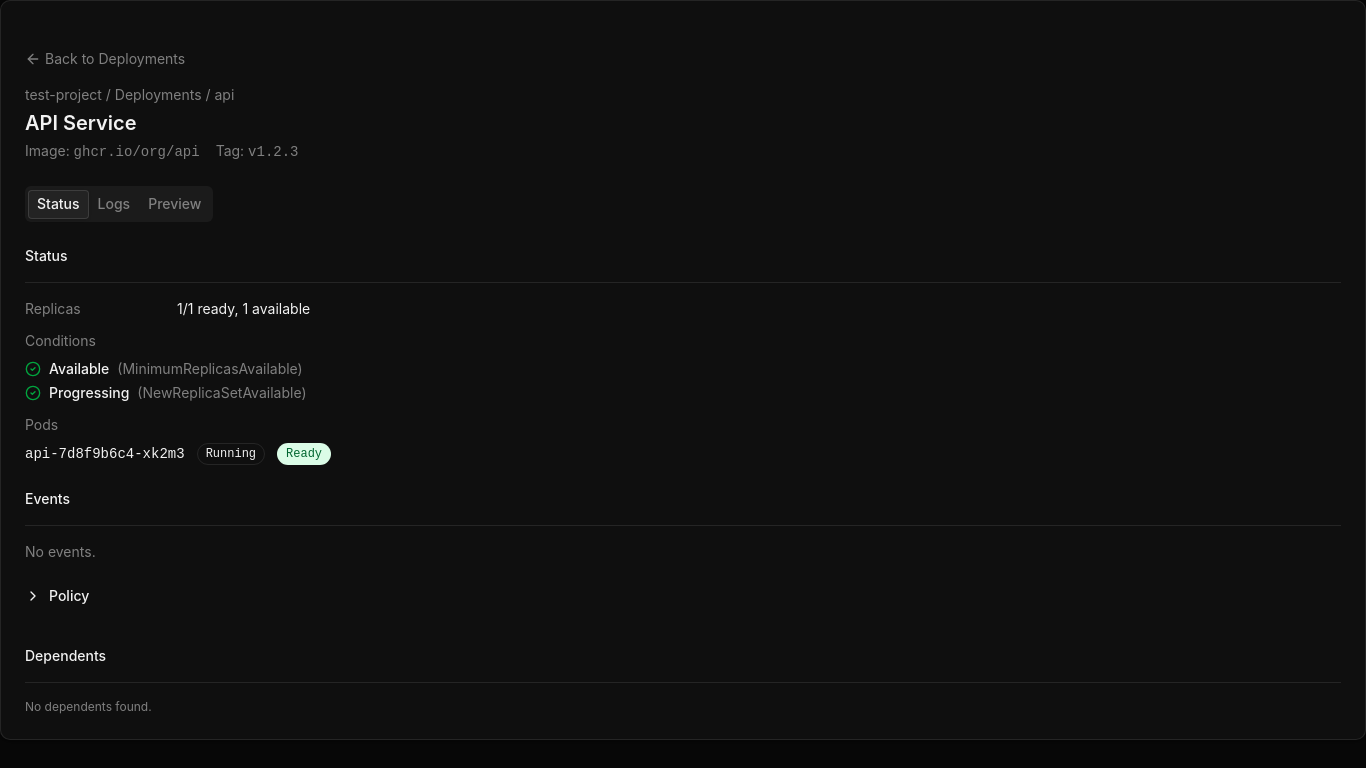
it: DeploymentDetailPage › Preview tab › renders platform resources YAML when preview data is available
Click the tab "Preview": (175, 204) top-left (139, 190), bottom-right (210, 218)
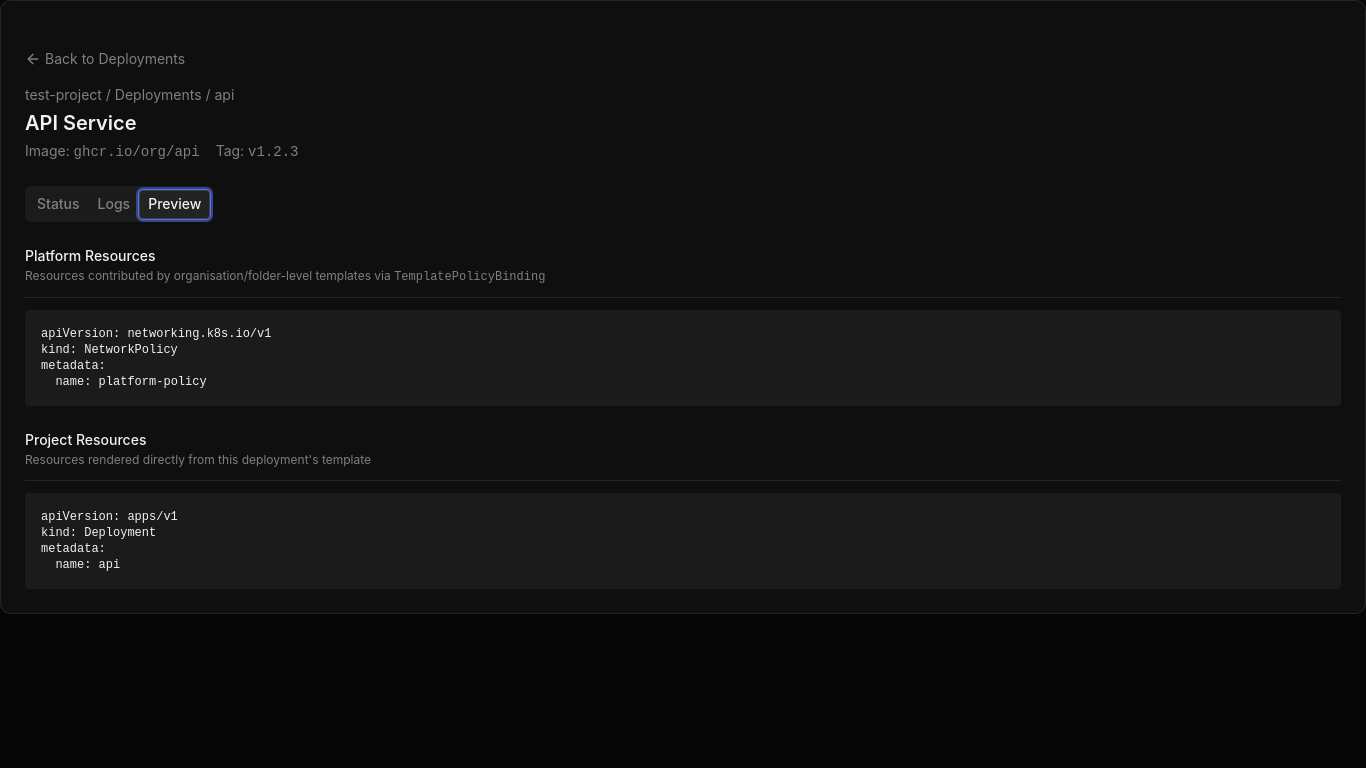
Expected: the text with test id "preview-platform-resources" is shown, top-left (25, 310), bottom-right (1341, 406)
Expected: the text "NetworkPolicy" is shown, top-left (41, 327), bottom-right (271, 389)
